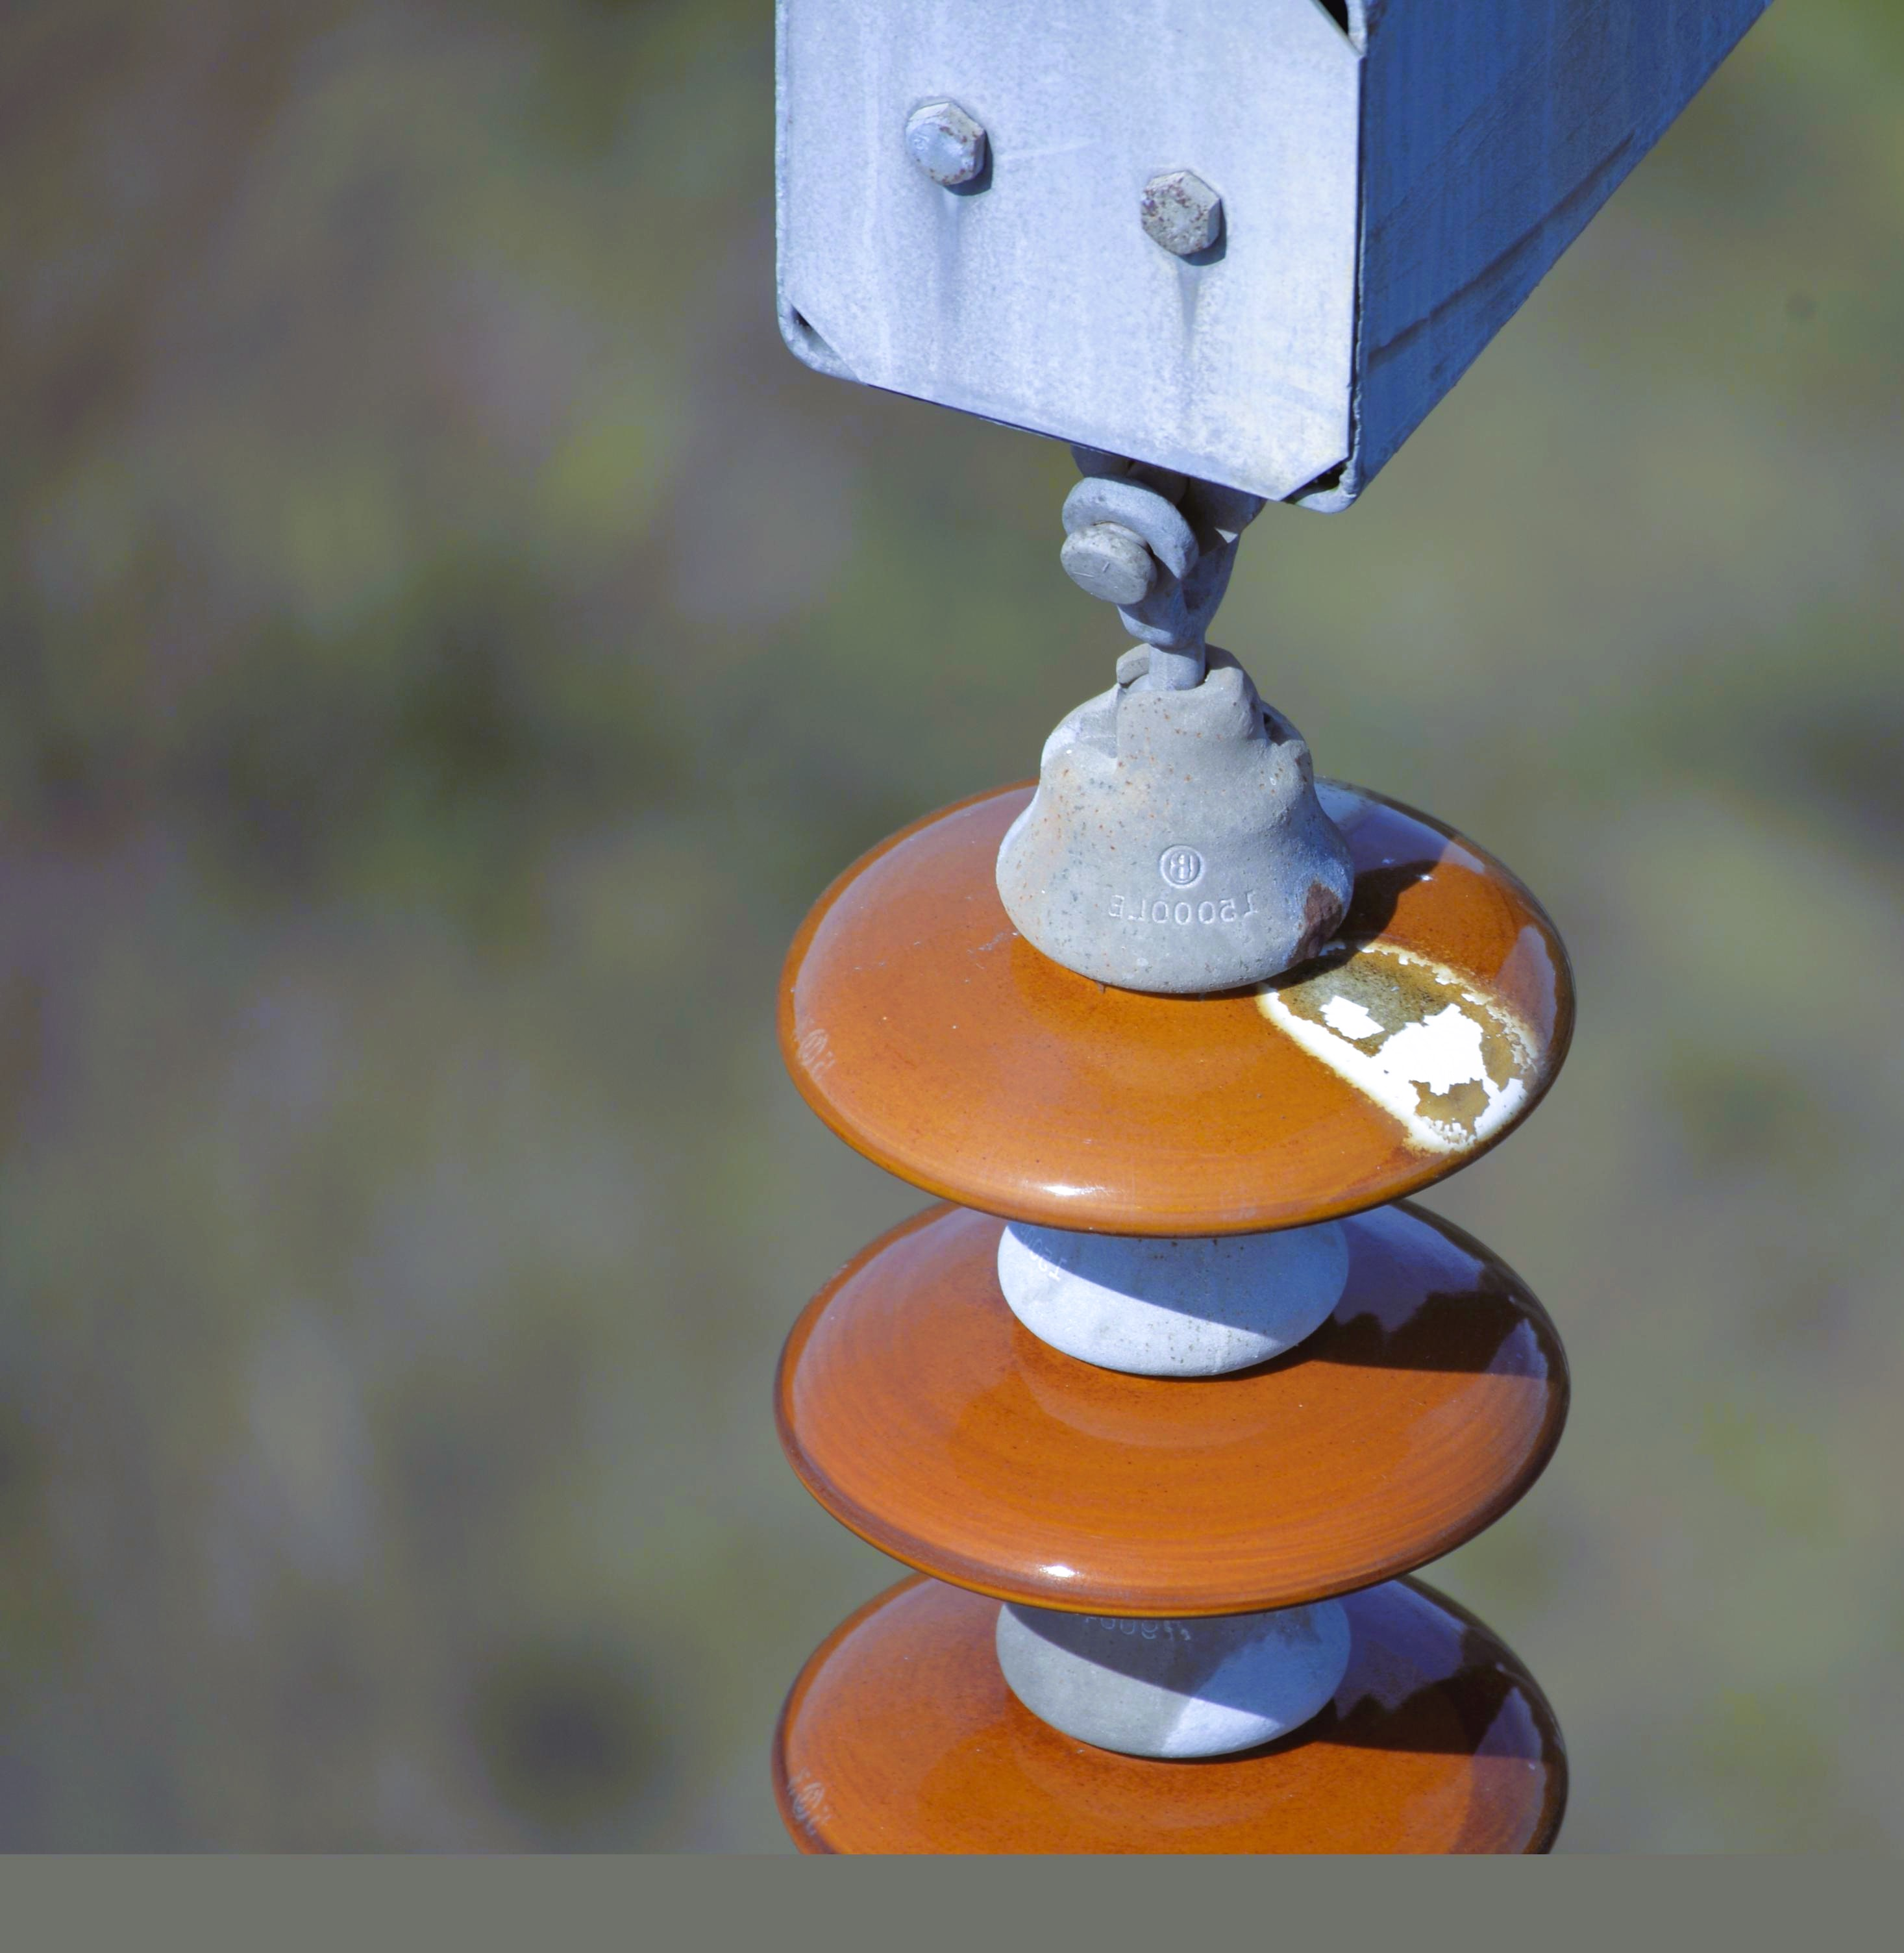Insulator flashover: (772, 748, 1588, 1245)
